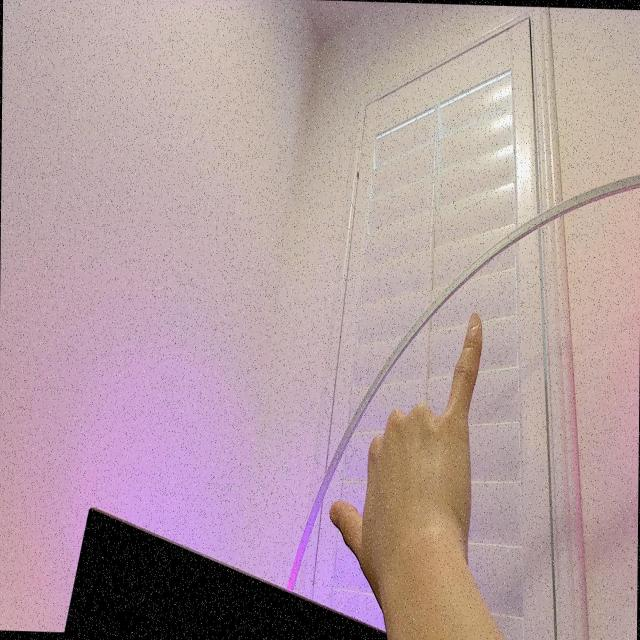Y: (329, 303, 499, 602)
